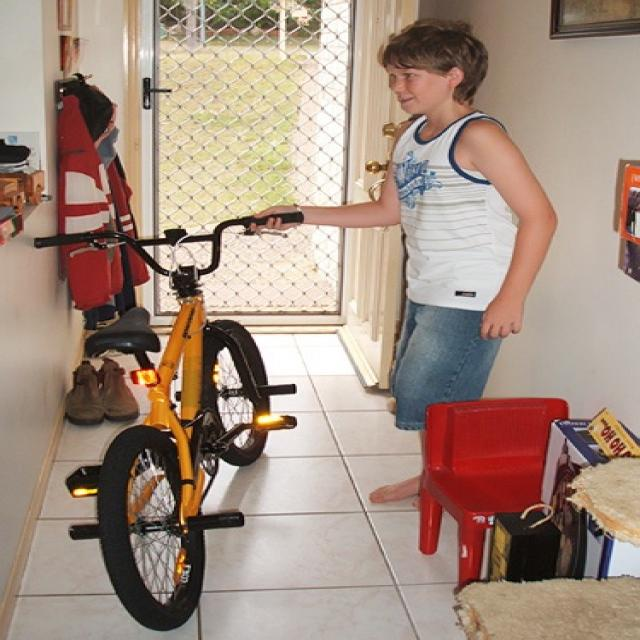bicycle: (29, 211, 307, 631)
